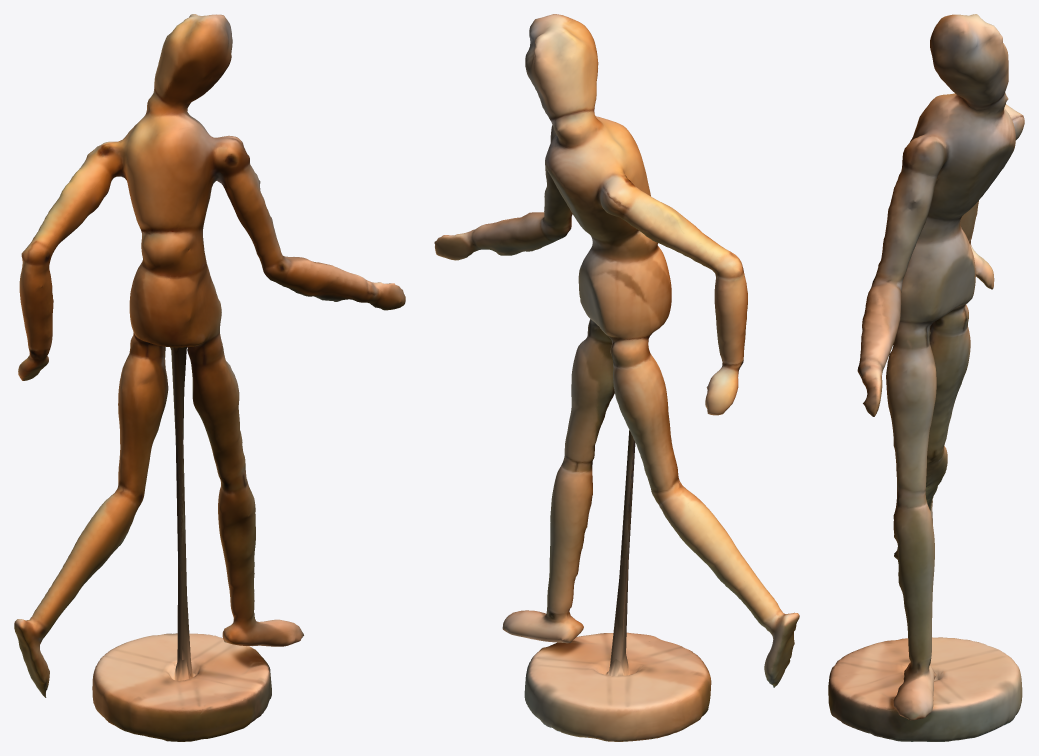
The model's file is WOODMAN.fbx.
The picture shows the model from 3 angles, left to right: view 1: azimuth 30°, elevation 25°; view 2: azimuth 150°, elevation 25°; view 3: azimuth 270°, elevation 25°; orthographic projection. The views are drawn at different scales.
Visible parts, largest first — view 1: woodman_ACCDONE; view 2: woodman_ACCDONE; view 3: woodman_ACCDONE.
Boxes of the visible parts, x1,y1,x2,y2 form: woodman_ACCDONE: (14,14,405,741); woodman_ACCDONE: (434,14,799,741); woodman_ACCDONE: (828,14,1024,741).
Size of the model in its own units: 58.33 by 101 by 25.1.
